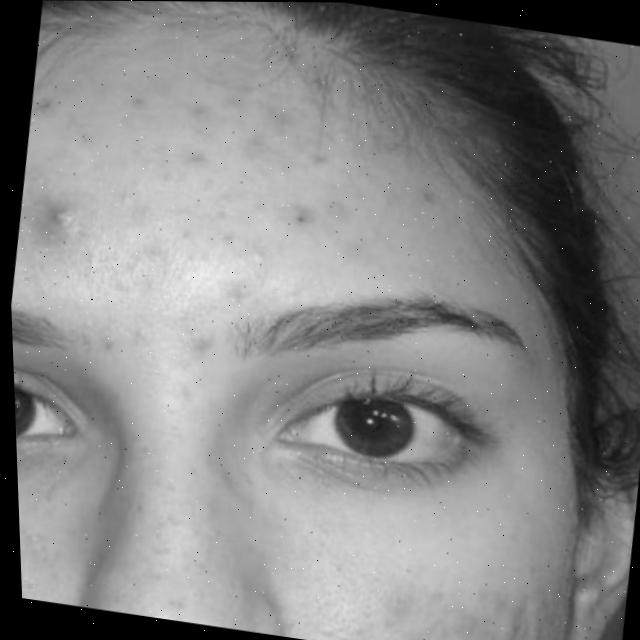Acne: (5, 26, 416, 319)
